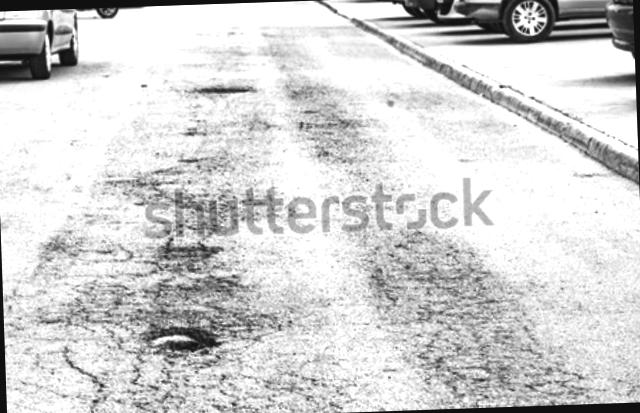Pothole: (128, 303, 236, 375), (141, 232, 232, 274), (186, 72, 268, 104)
